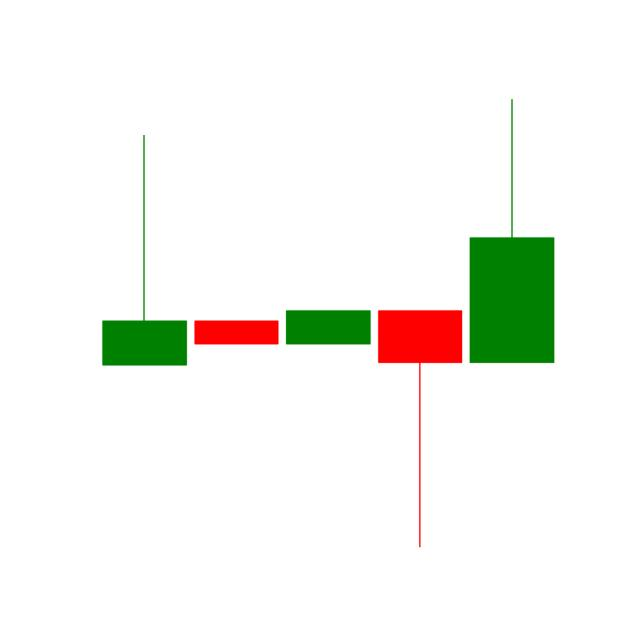Four price doji: (286, 309, 369, 344), (194, 321, 280, 345)
Hanging Man: (373, 308, 465, 550)
Inverted Hammer: (466, 97, 560, 370), (94, 124, 188, 368)
